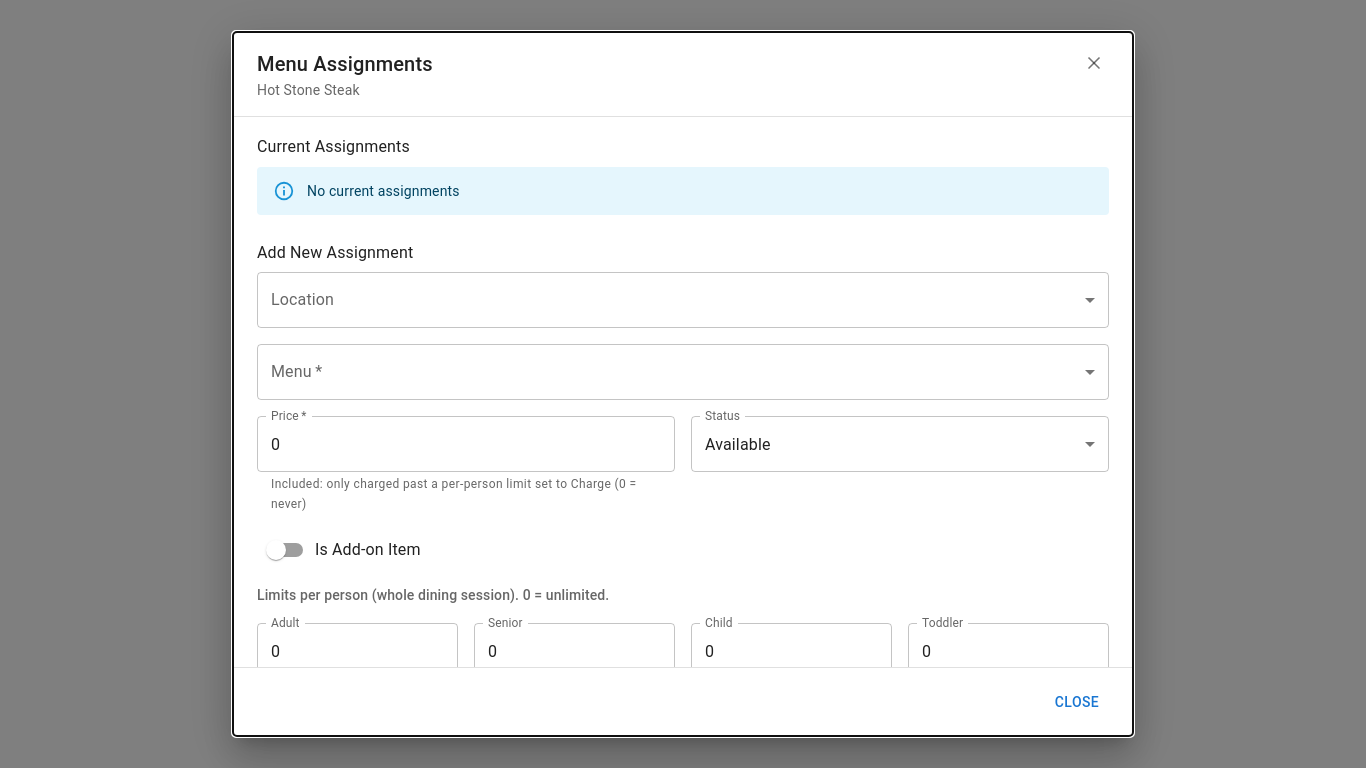
Menu assignment dialog › won't save limits that break the rules
Expected: the text "No current assignments" is shown, [307,183,460,199]
Replace the text in the number field labelled "Adult" with "1" at (358, 651), box [257,623,458,679]
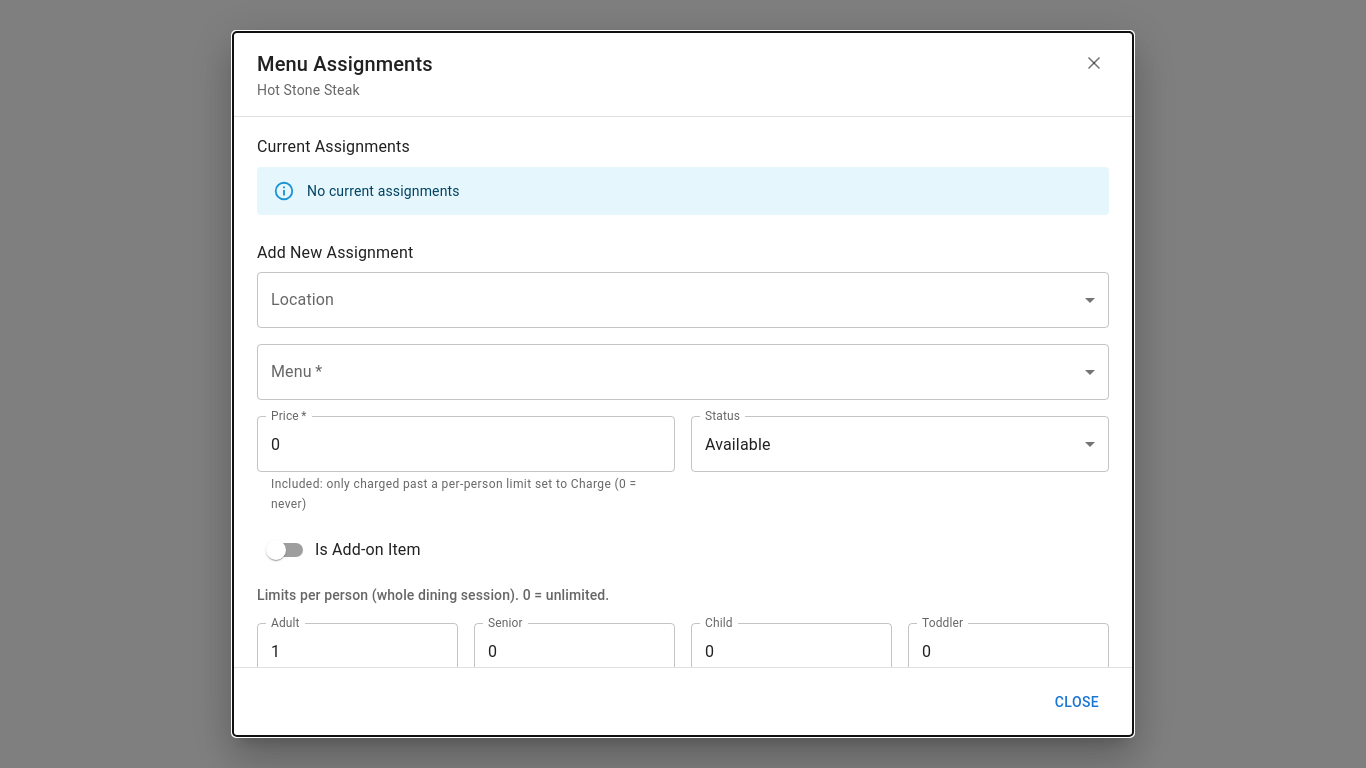
Replace the text in the number field labelled "Child" with "2" at (792, 651), box [691,623,892,679]
(page scrolled)
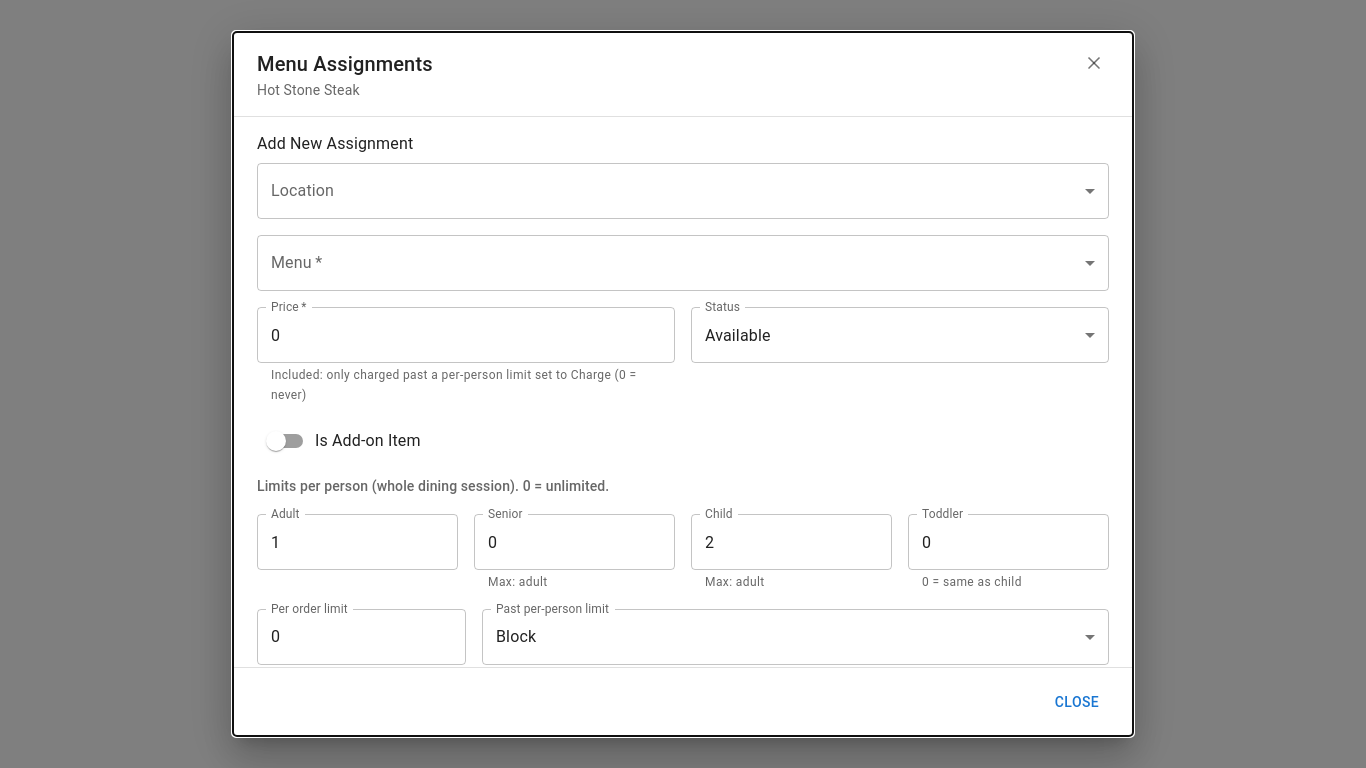
Submit the form named "Add Assignment", box [257,24,1109,760]
(page scrolled)
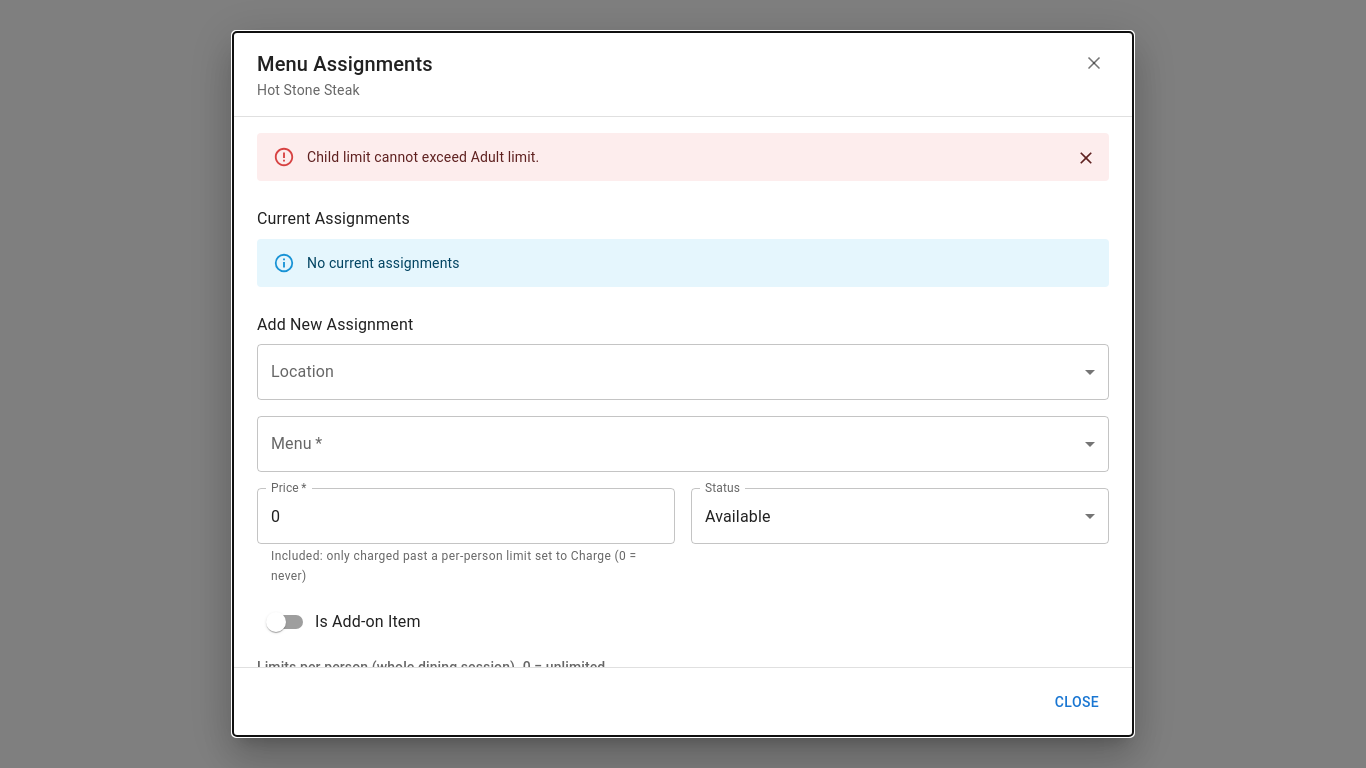
Expected: the text "Child limit cannot exceed Adult limit." is shown, [307,149,539,165]
